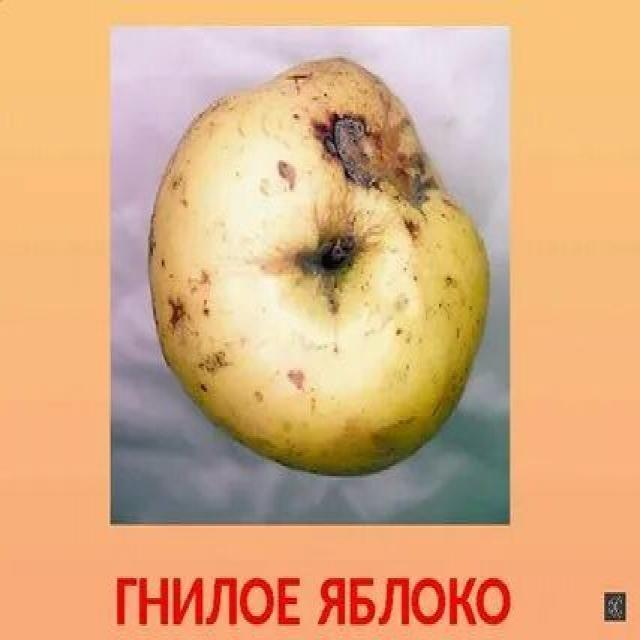Rotten: (155, 68, 480, 487)
